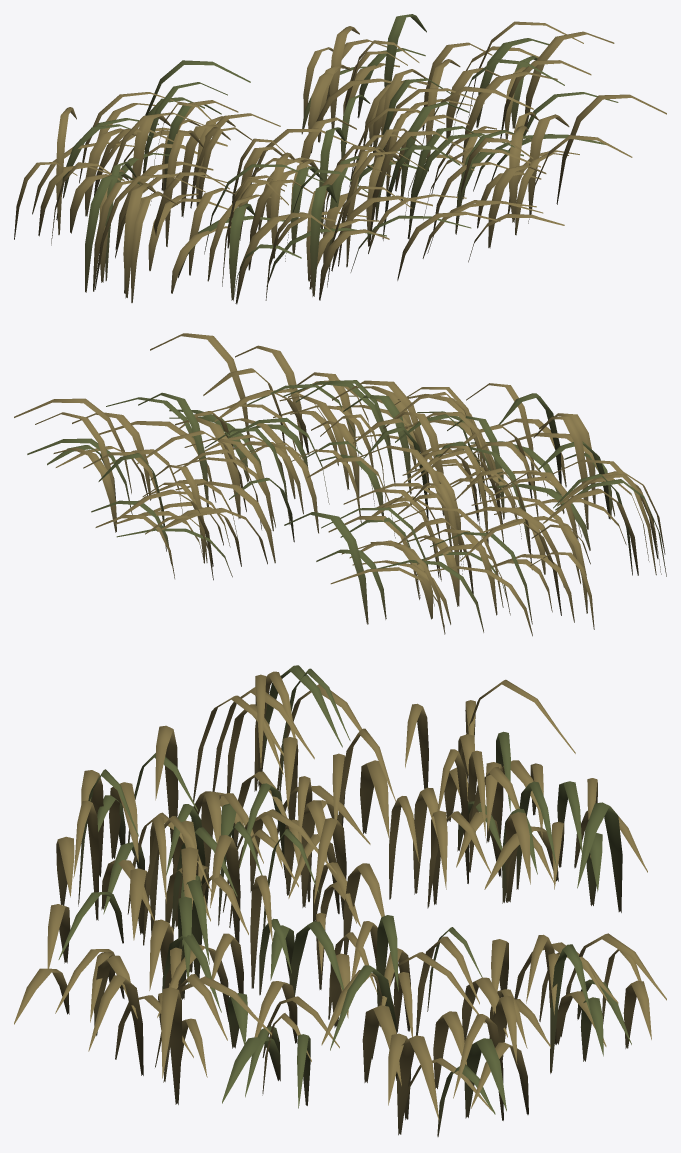
The model's file is grass-islands.glb.
3 renders of one model, top to bottom at view 1: azimuth 30°, elevation 25°; view 2: azimuth 150°, elevation 25°; view 3: azimuth 270°, elevation 25°, orthographic. The views are drawn at different scales.
Parts seen in each view (by area): view 1: LAND03 grass-islands; view 2: LAND03 grass-islands; view 3: LAND03 grass-islands.
Part boxes in pixels (x1,y1,x2,y2): LAND03 grass-islands: (14,14,666,304); LAND03 grass-islands: (14,333,666,636); LAND03 grass-islands: (14,665,666,1136).
Bounding box in the file's own units: 2.81 × 0.4795 × 1.83.
